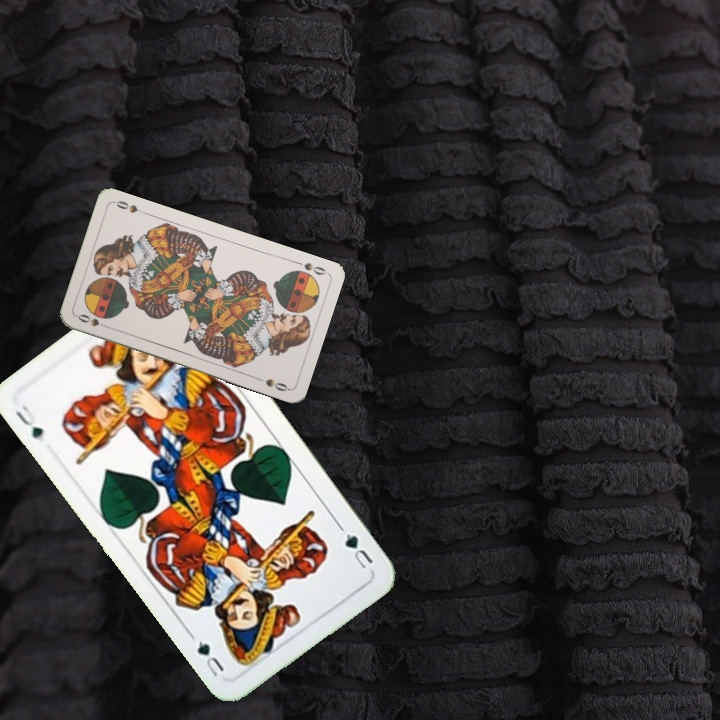GU: (335, 521, 376, 572), (11, 401, 46, 443)
SO: (74, 310, 113, 331), (290, 257, 329, 278)
